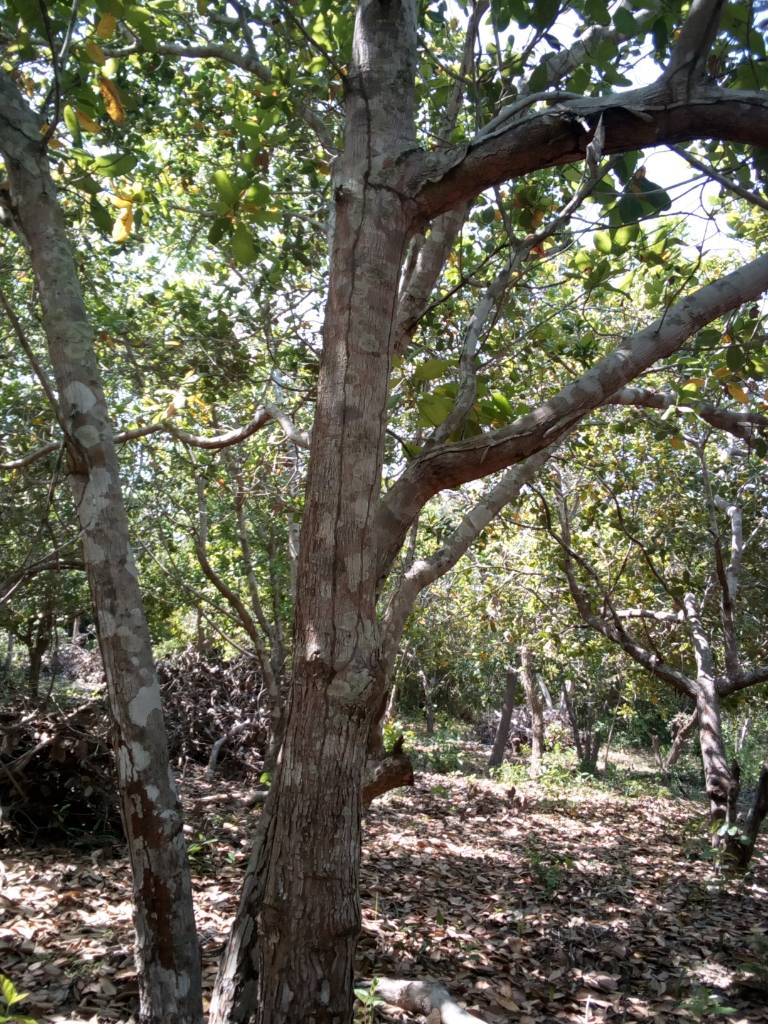Termites: (300, 92, 393, 849)
